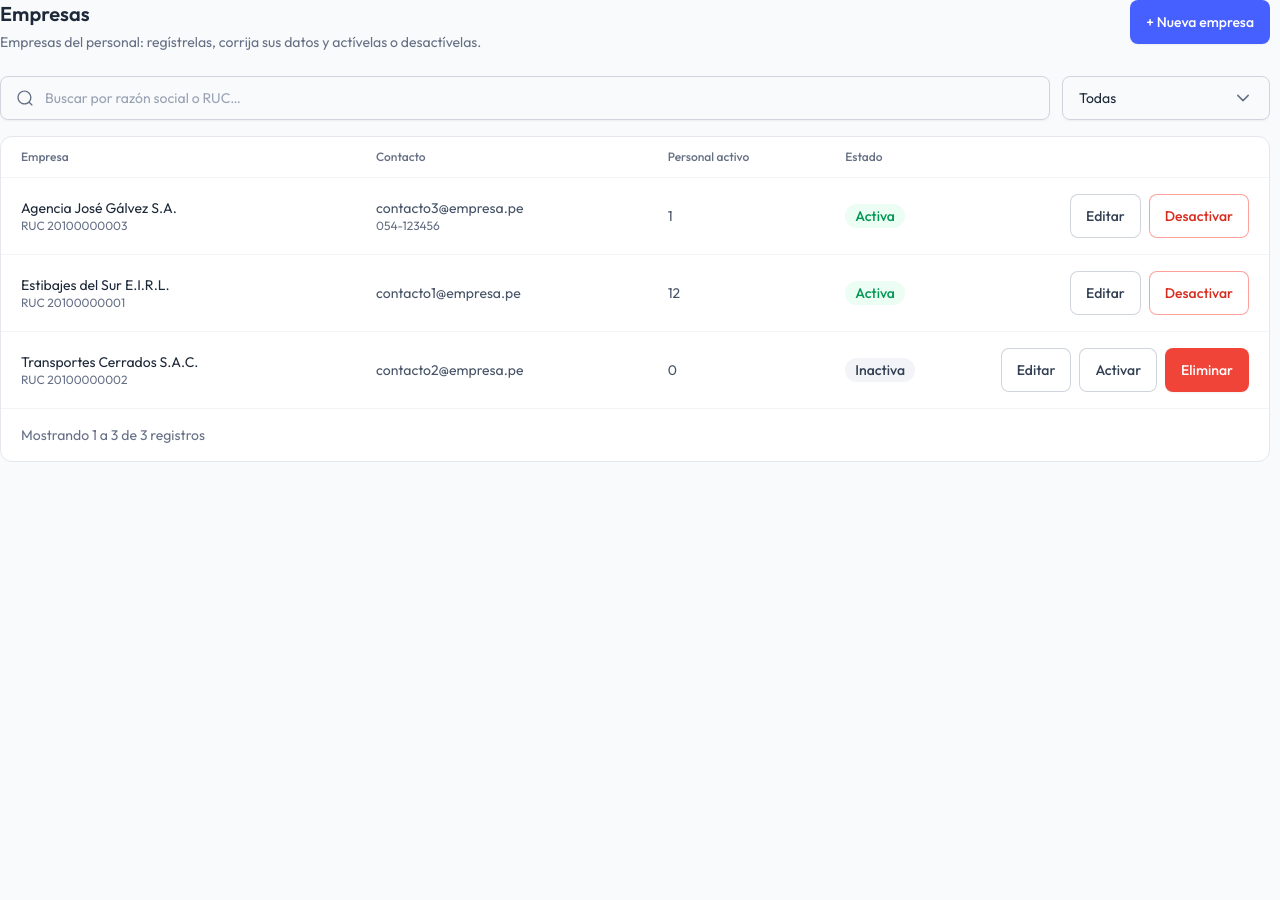
Test: vista Empresas › solo una empresa sin personal ni usuarios se puede eliminar, con confirmación
What coordinates should you click on to do the following:
click the button "Eliminar"
I would click on:
 (1207, 370)
Its box is [1165,348,1249,392].
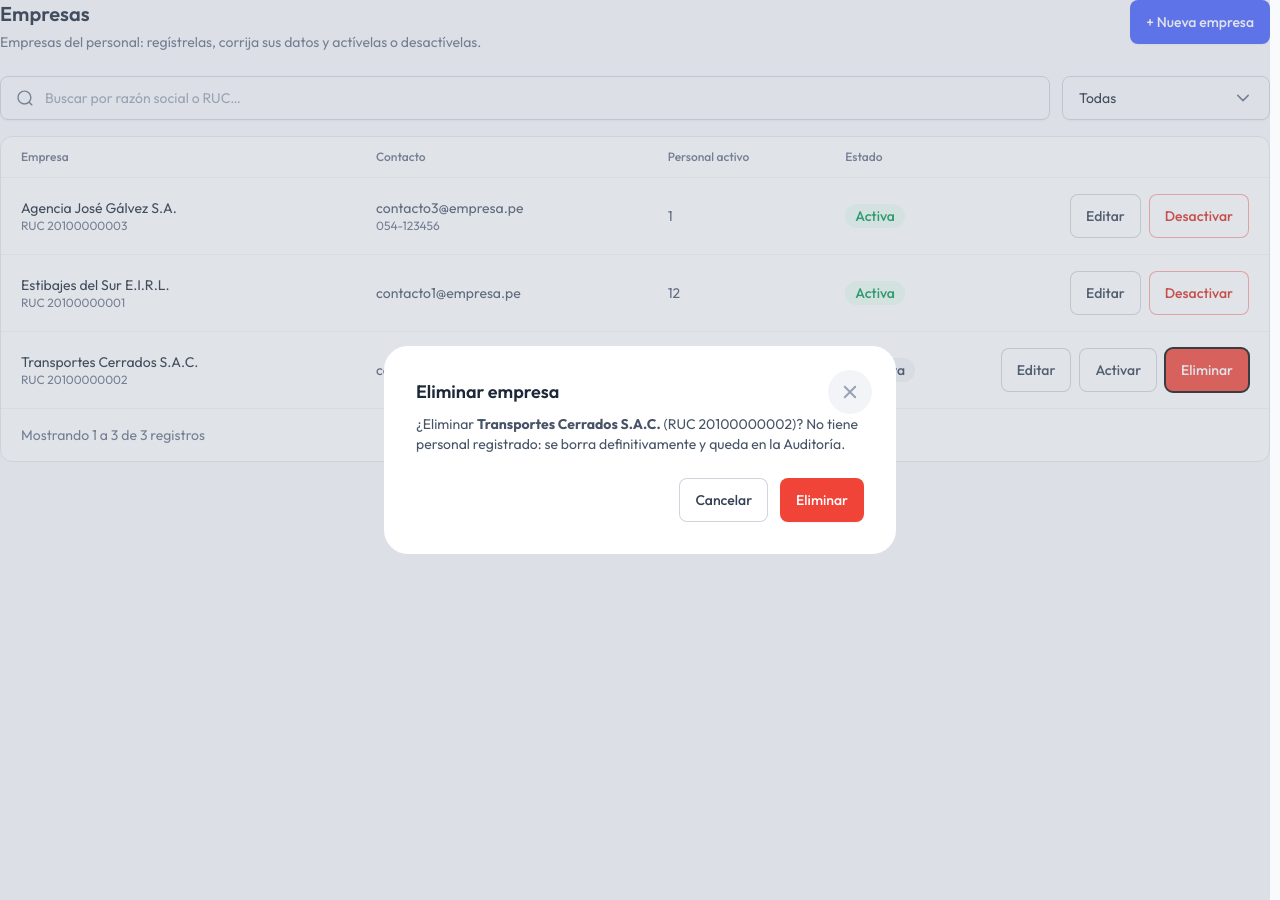
Result: the text "se borra" shows "No tiene personal registrado" at [416,415,858,453]
What coordinates should you click on to do the following:
click the button "Eliminar"
I would click on:
 (822, 500)
Its box is [780,478,864,522].
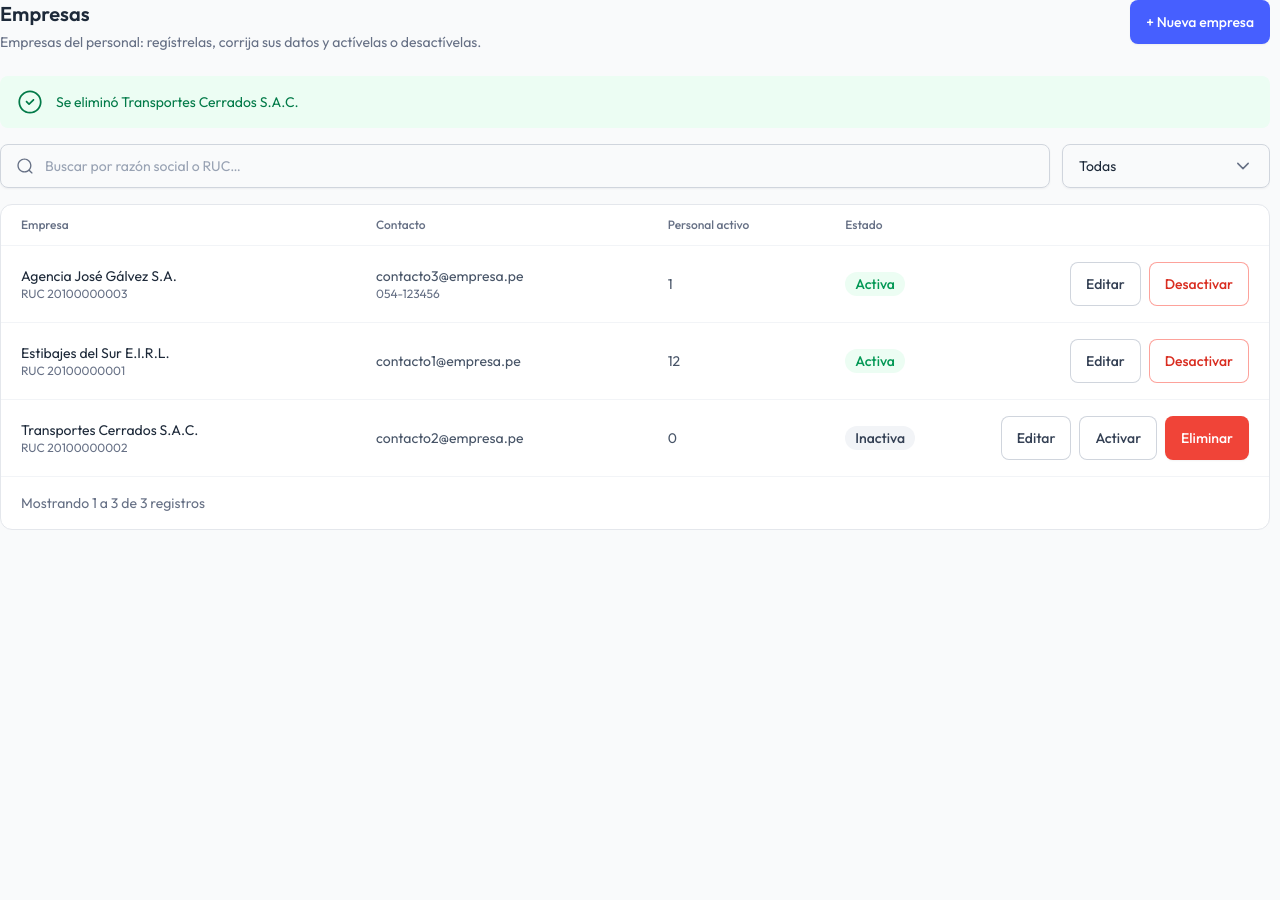
Result: the text "Se eliminó Transportes Cerrados S.A.C." is shown at [56,92,299,112]
